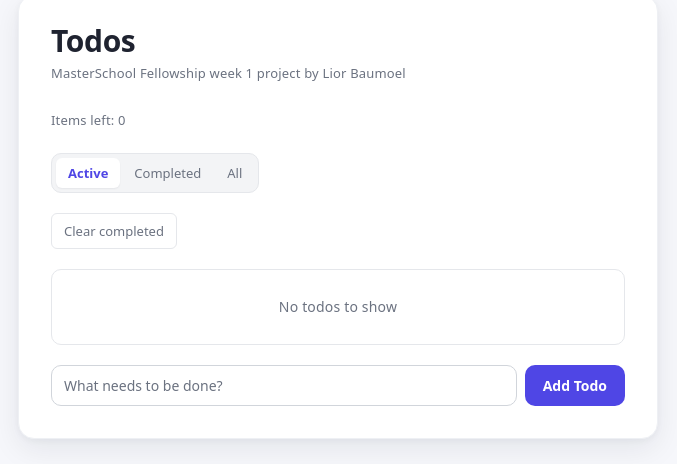
it: App integration › runs full todo lifecycle through UI
Expected: the list item "No todos to show" is shown, [279, 297, 397, 316]
In the field with placeholder "What needs to be done?": (284, 385) [51, 365, 517, 406], type "Investigate weird edge case"
Then press Enter
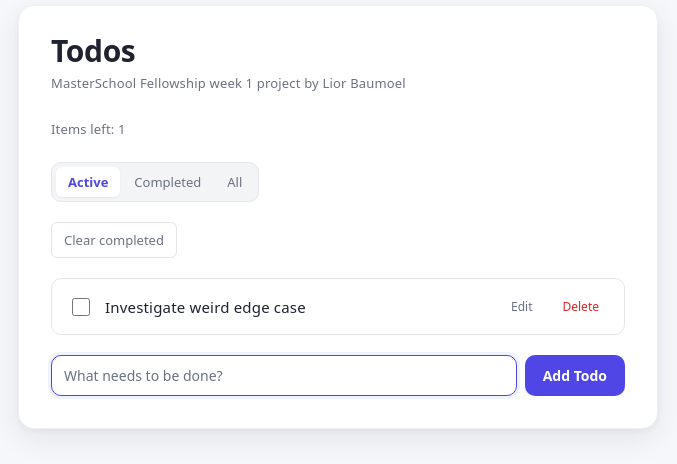
Result: the text "Investigate weird edge case" is shown at [105, 297, 306, 317]
Result: the text "Items left: 1" is shown at [51, 120, 126, 138]
Click the checkbox: (81, 307) [72, 298, 90, 316]
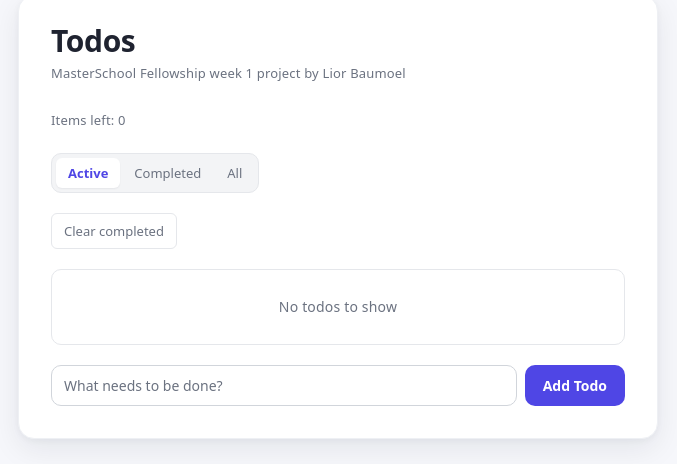
Result: the list item "No todos to show" is shown at [279, 297, 397, 316]
Result: the text "Items left: 0" is shown at [51, 110, 126, 128]
Click the button "Completed": (168, 173) [122, 158, 213, 188]
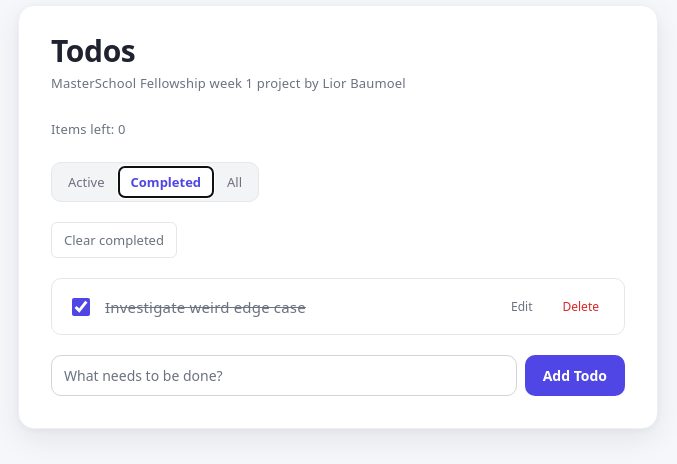
Result: the text "Investigate weird edge case" is shown at [105, 297, 306, 317]
Click the button "Edit": (522, 307) [502, 291, 542, 322]
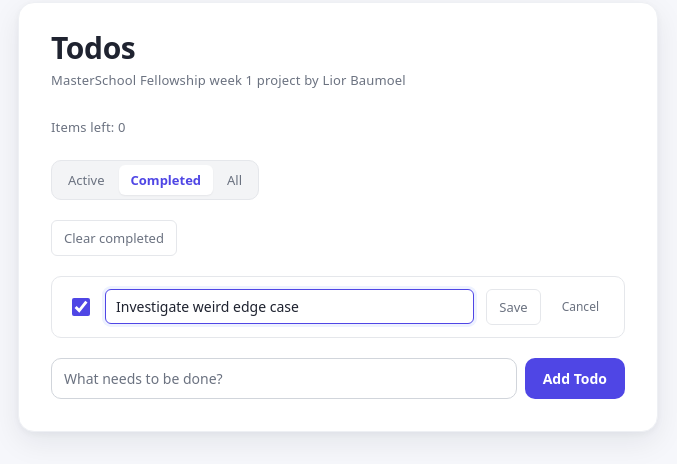
Replace the text in the field showing "Investigate weird edge case" with "Edited todo text": (290, 307) [105, 289, 474, 324]
Click the button "Save": (514, 307) [486, 289, 541, 325]
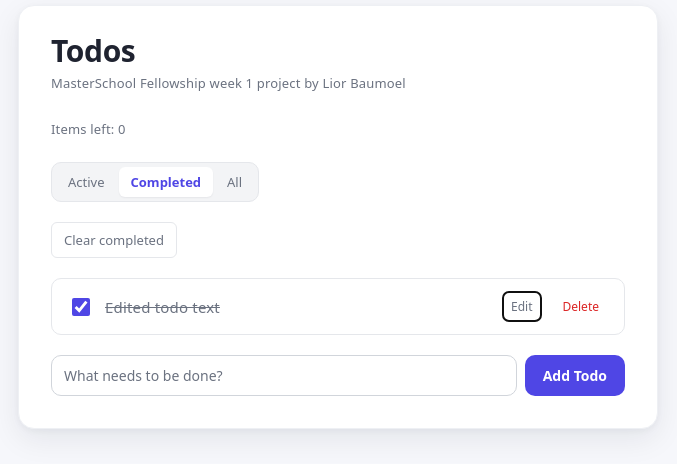
Result: the text "Edited todo text" is shown at [105, 297, 220, 317]
Click the button "Delete": (581, 307) [554, 291, 608, 322]
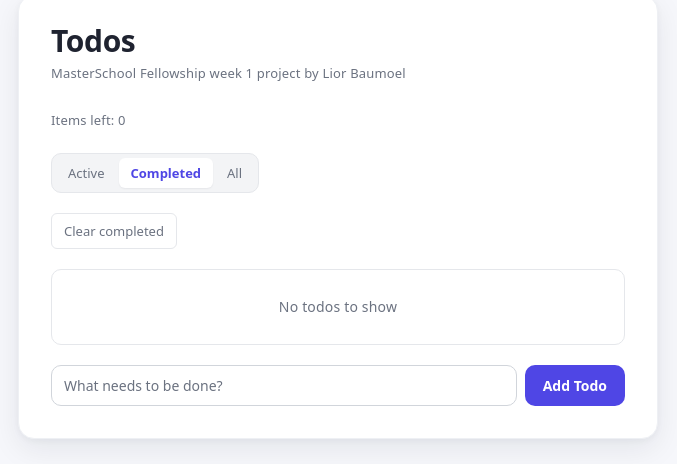
Result: the list item "No todos to show" is shown at [279, 297, 397, 316]
